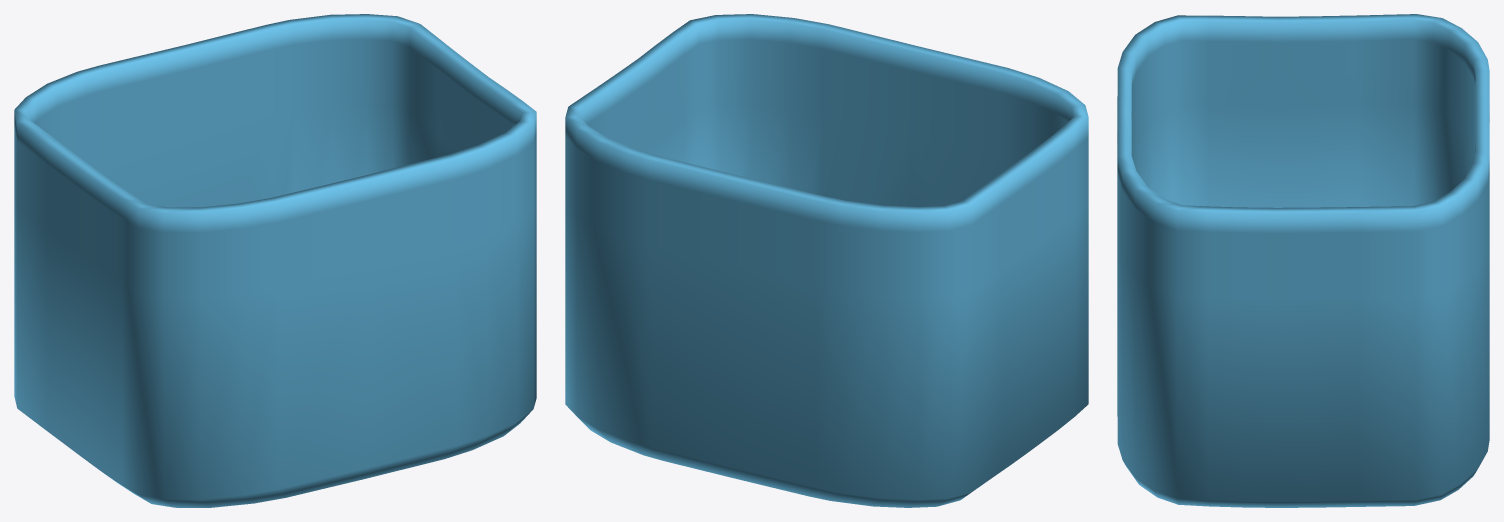
File: Thermos.fbx
3 renders of one model, left to right at view 1: azimuth 30°, elevation 25°; view 2: azimuth 150°, elevation 25°; view 3: azimuth 270°, elevation 25°, orthographic.
Parts seen in each view (by area): view 1: Thermos; view 2: Thermos; view 3: Thermos.
Boxes of the visible parts, <box> form: Thermos: <box>14,14,536,507</box>; Thermos: <box>565,14,1088,507</box>; Thermos: <box>1117,14,1489,507</box>.
Bounding box in the file's own units: 33.29 × 23.85 × 26.45.
